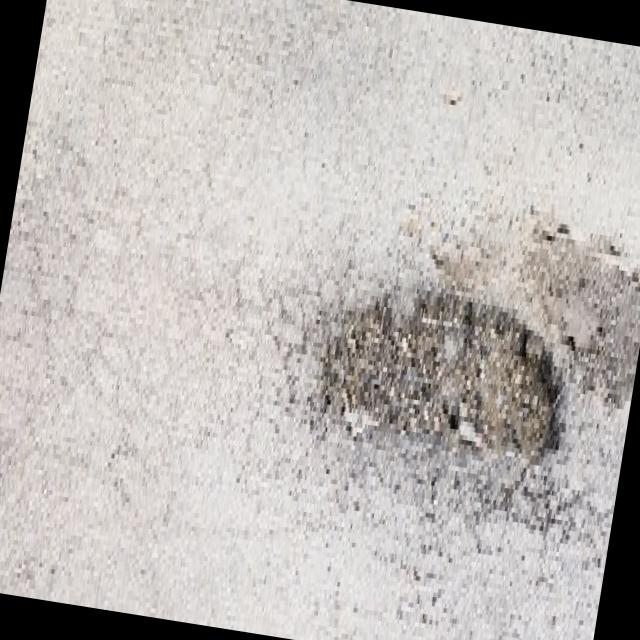Potholes: (300, 162, 616, 592)
